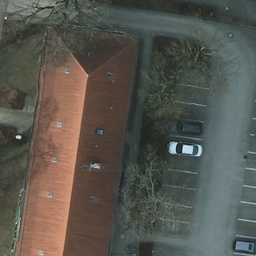car: (167, 117, 204, 137), (167, 143, 204, 158), (231, 239, 255, 256)
